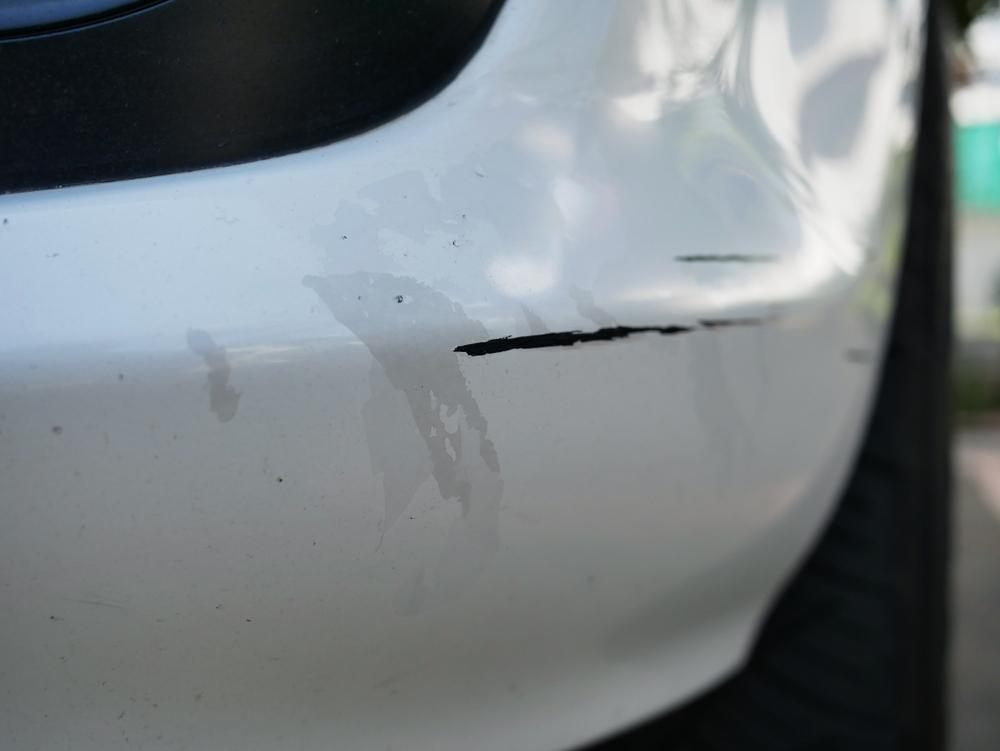scratch: (424, 243, 801, 363)
